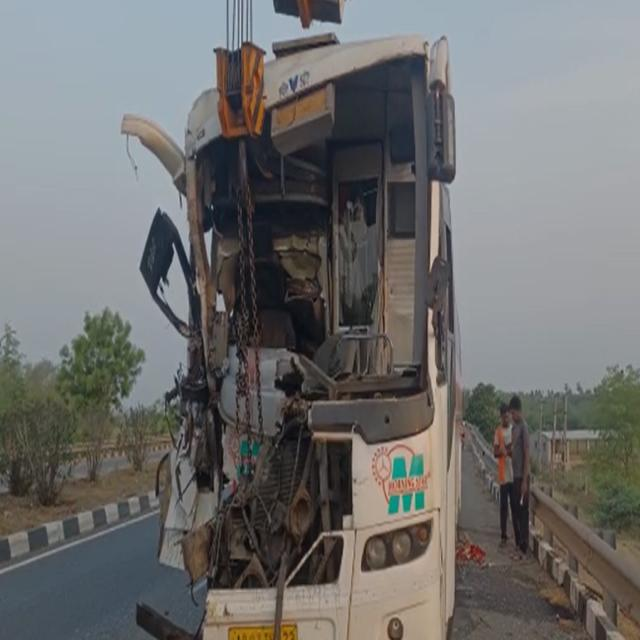accident: (121, 0, 461, 640)
